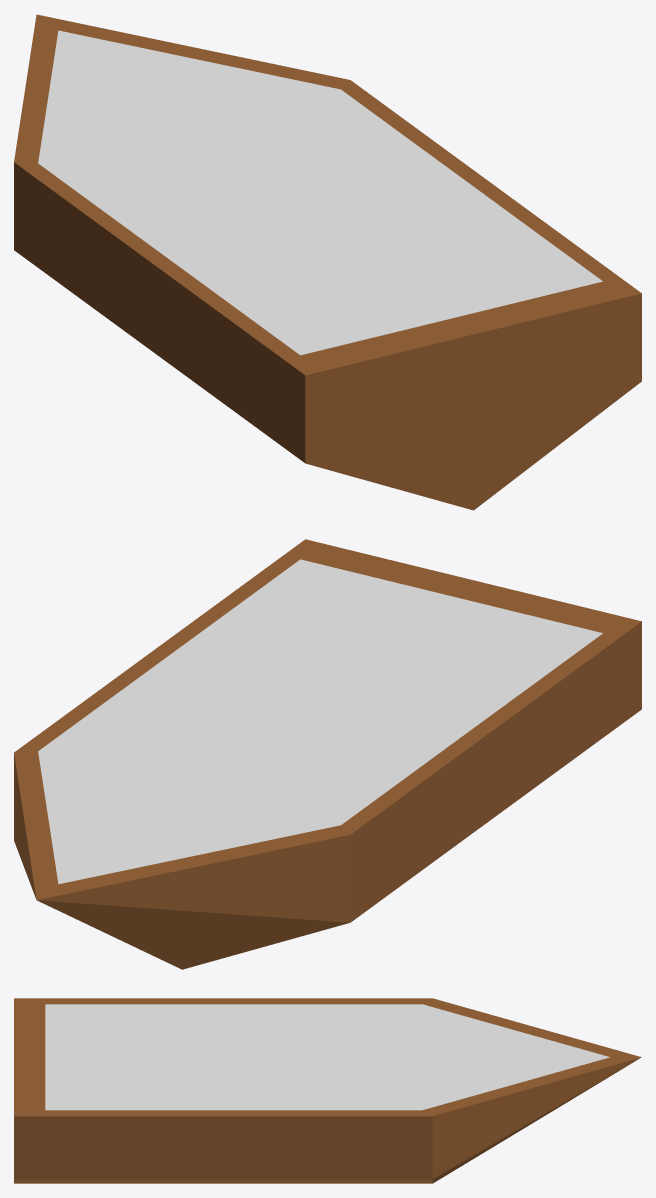
File: Boat.fbx
3 renders of one model, top to bottom at view 1: azimuth 30°, elevation 25°; view 2: azimuth 150°, elevation 25°; view 3: azimuth 270°, elevation 25°, orthographic. The views are drawn at different scales.
Visible parts, largest first — view 1: Boat Volume, Boat Hull; view 2: Boat Volume, Boat Hull; view 3: Boat Volume, Boat Hull.
Boxes of the visible parts, x1,y1,x2,y2 form: Boat Volume: (38,30,602,355); Boat Hull: (14,14,641,510); Boat Volume: (38,559,602,884); Boat Hull: (14,539,641,969); Boat Volume: (45,1004,609,1110); Boat Hull: (14,998,641,1183).
Size of the model in its own units: 400 by 200 by 900.
